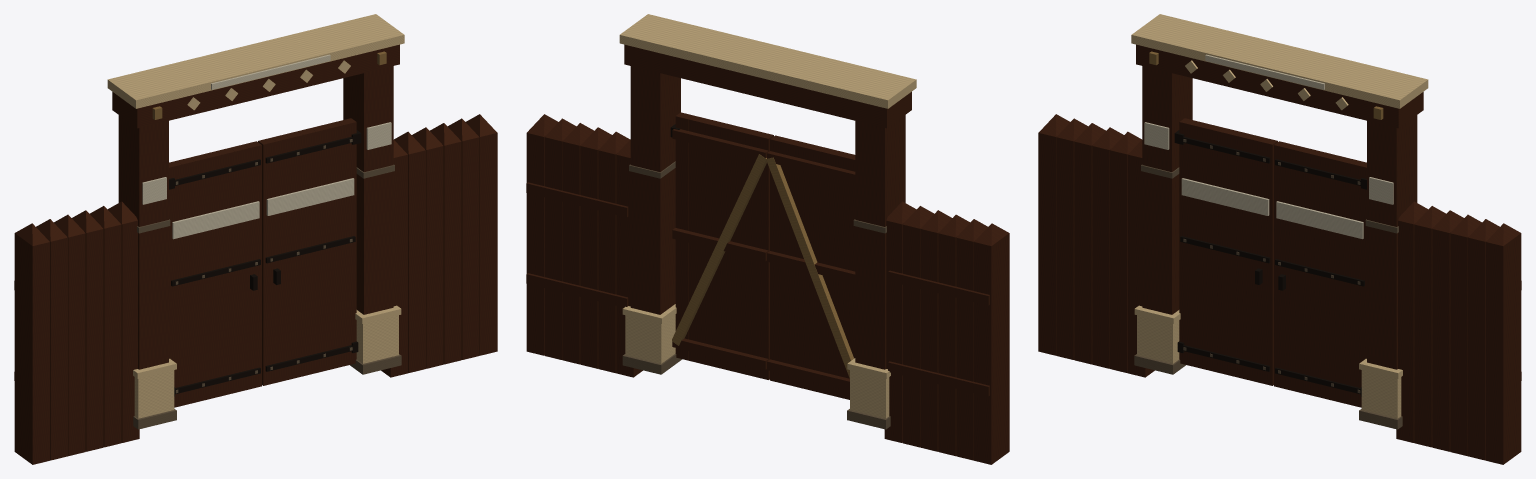
File: Berber_PalisadeGate_Age4.fbx
The picture shows the model from 3 angles, left to right: view 1: azimuth 30°, elevation 25°; view 2: azimuth 150°, elevation 25°; view 3: azimuth 330°, elevation 25°; orthographic projection.
Visible parts, largest first — view 1: lintel_earth_weather_cap, right_palm_gatepost, left_palm_gatepost, left_palisade_stake_5, mortised_palm_lintel, left_palisade_stake_2, right_palisade_stake_5, left_palisade_stake_1, right_palisade_stake_3, right_palisade_stake_4, right_palisade_stake_2, left_palisade_stake_4 (+33 smaller); view 2: right_palm_gatepost, lintel_earth_weather_cap, left_palm_gatepost, left_palisade_stake_5, mortised_palm_lintel, right_palisade_stake_1, left_palisade_stake_2, right_palisade_stake_2, right_palisade_stake_3, right_palisade_stake_5, right_palisade_stake_4, left_palisade_stake_3 (+35 smaller); view 3: lintel_earth_weather_cap, left_palm_gatepost, right_palm_gatepost, right_palisade_stake_5, mortised_palm_lintel, left_palisade_stake_5, right_palisade_stake_2, left_palisade_stake_3, right_palisade_stake_1, left_palisade_stake_4, left_palisade_stake_2, right_palisade_stake_4 (+33 smaller).
Boxes of the visible parts, x1,y1,x2,y2 form: lintel_earth_weather_cap: (107, 14, 404, 108); right_palm_gatepost: (343, 66, 393, 314); left_palm_gatepost: (118, 115, 168, 369); left_palisade_stake_5: (14, 223, 49, 464); mortised_palm_lintel: (112, 44, 399, 128); left_palisade_stake_2: (72, 210, 103, 451); right_palisade_stake_5: (465, 114, 497, 355); left_palisade_stake_1: (90, 206, 121, 447); right_palisade_stake_3: (430, 123, 461, 364); right_palisade_stake_4: (448, 118, 479, 359); right_palisade_stake_2: (412, 127, 443, 368); left_palisade_stake_4: (36, 219, 67, 460); right_palm_gatepost: (630, 66, 680, 314); lintel_earth_weather_cap: (619, 14, 916, 108); left_palm_gatepost: (855, 115, 905, 369); left_palisade_stake_5: (974, 223, 1009, 464); mortised_palm_lintel: (624, 44, 911, 128); right_palisade_stake_1: (598, 131, 629, 373); left_palisade_stake_2: (920, 210, 952, 451); right_palisade_stake_2: (580, 127, 612, 368); right_palisade_stake_3: (562, 123, 594, 364); right_palisade_stake_5: (526, 114, 558, 355); right_palisade_stake_4: (544, 118, 576, 359); left_palisade_stake_3: (938, 214, 969, 456); lintel_earth_weather_cap: (1131, 14, 1428, 108); left_palm_gatepost: (1142, 66, 1192, 314); right_palm_gatepost: (1367, 115, 1417, 369); right_palisade_stake_5: (1486, 223, 1521, 464); mortised_palm_lintel: (1136, 44, 1423, 128); left_palisade_stake_5: (1038, 114, 1070, 355); right_palisade_stake_2: (1432, 210, 1463, 451); left_palisade_stake_3: (1074, 123, 1105, 364); right_palisade_stake_1: (1414, 206, 1445, 447); left_palisade_stake_4: (1056, 118, 1087, 359); left_palisade_stake_2: (1092, 127, 1123, 368); right_palisade_stake_4: (1468, 219, 1499, 460).
Bounding box in the file's own units: 1018 × 721 × 112.
Materials: 6 (6 with a texture image).
